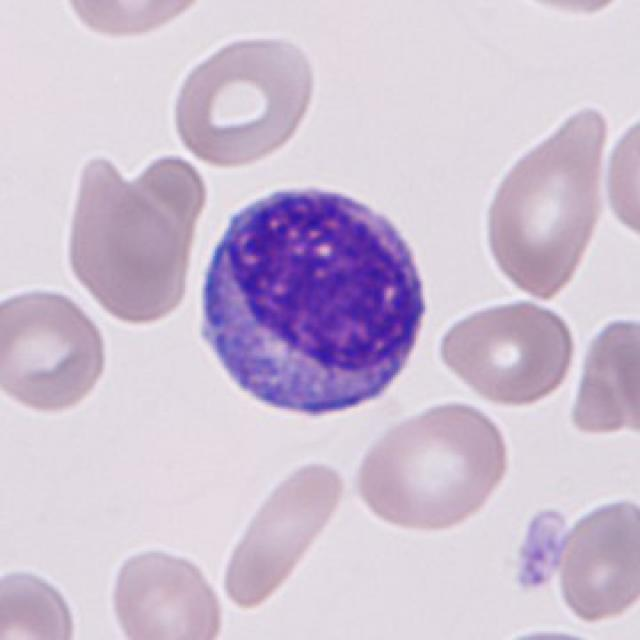Lymphocyte: (187, 171, 437, 432)
RBC: (480, 100, 613, 302), (57, 146, 199, 329), (350, 396, 516, 537), (167, 27, 320, 171), (215, 454, 352, 614), (432, 295, 578, 409), (0, 283, 110, 420), (103, 538, 227, 640), (553, 493, 638, 623), (569, 311, 640, 441), (54, 0, 212, 46), (0, 563, 82, 640), (601, 117, 640, 242), (490, 0, 640, 21), (473, 622, 626, 640)
